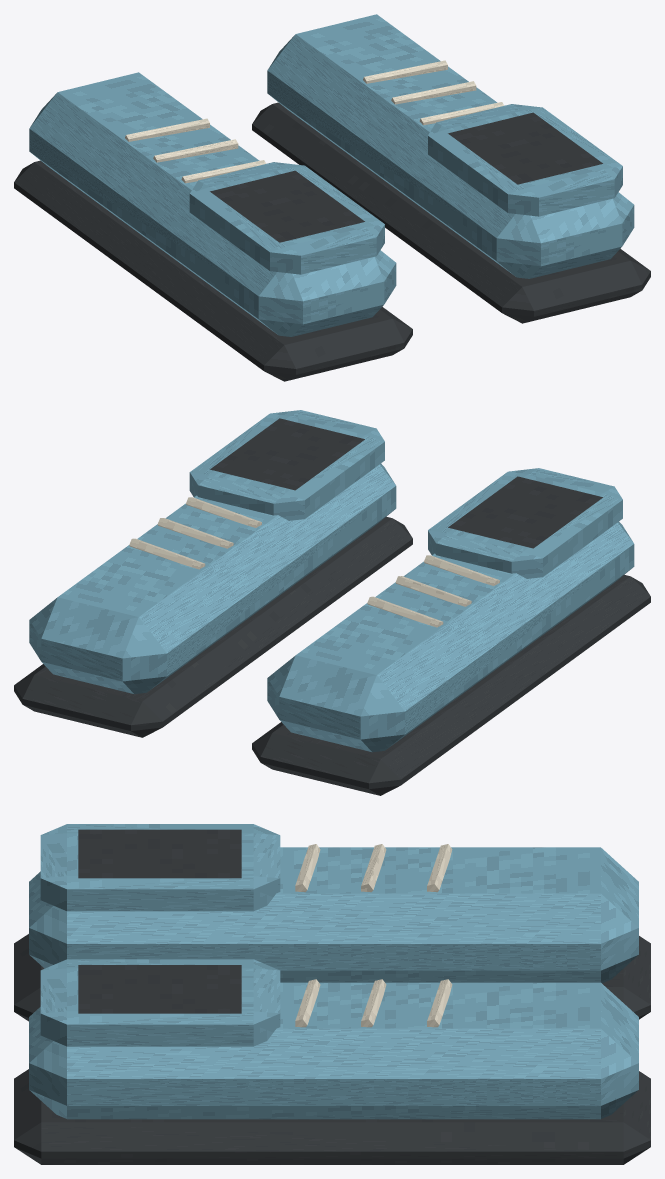
Rendered from roller_shoes_off.glb.
The picture shows the model from 3 angles, top to bottom: view 1: azimuth 30°, elevation 25°; view 2: azimuth 150°, elevation 25°; view 3: azimuth 270°, elevation 25°; orthographic projection. The views are drawn at different scales.
Visible parts, largest first — view 1: block_stitched vamp (×2), block_shaped sole (×2), block_open ankle (×2), block_insole opening (×2), block_lace 0 (×6); view 2: block_stitched vamp (×2), block_shaped sole (×2), block_open ankle (×2), block_insole opening (×2), block_lace 0 (×6); view 3: block_stitched vamp (×2), block_shaped sole (×2), block_open ankle (×2), block_insole opening (×2), block_lace 0 (×6).
Boxes of the visible parts, x1,y1,x2,y2 form: block_stitched vamp (×2): [29, 14, 634, 336]; block_shaped sole (×2): [14, 102, 650, 381]; block_open ankle (×2): [189, 104, 622, 274]; block_insole opening (×2): [210, 112, 602, 242]; block_lace 0 (×6): [125, 60, 503, 183]; block_stitched vamp (×2): [29, 463, 634, 752]; block_shaped sole (×2): [14, 516, 650, 795]; block_open ankle (×2): [189, 410, 622, 578]; block_insole opening (×2): [210, 418, 602, 548]; block_lace 0 (×6): [129, 497, 499, 627]; block_stitched vamp (×2): [29, 847, 638, 1119]; block_shaped sole (×2): [14, 934, 650, 1164]; block_open ankle (×2): [40, 824, 280, 1046]; block_insole opening (×2): [78, 829, 241, 1013]; block_lace 0 (×6): [295, 844, 452, 1027].
Bounding box in the file's own units: 0.2711 × 0.0869 × 0.332.
1 material, 1 textured.
